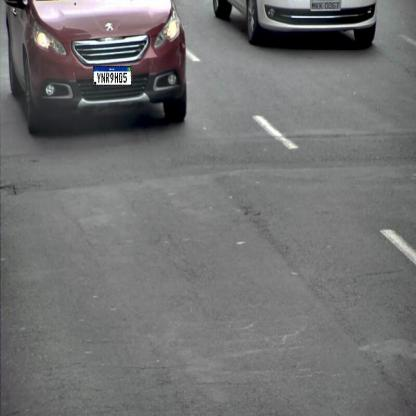PlacaM: (93, 66, 132, 86)
